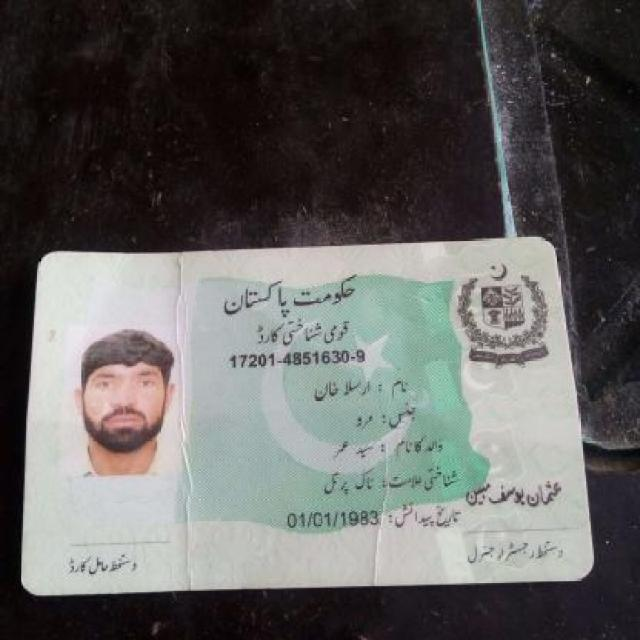Front: (24, 240, 602, 592)
